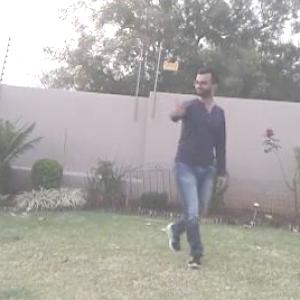takeoff-hand: (168, 91, 192, 123)
